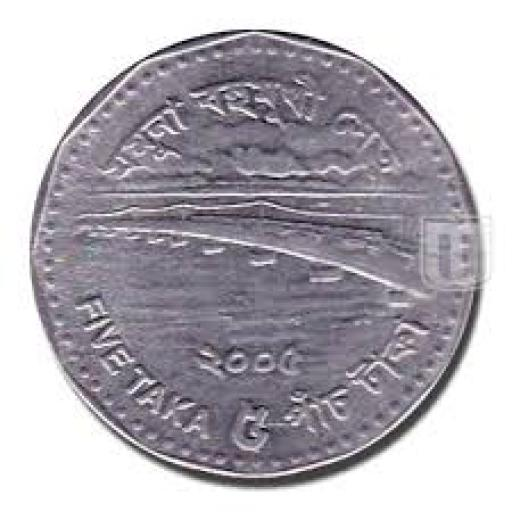5taka: (32, 32, 485, 478)
